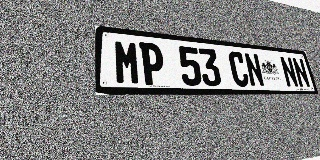3: (198, 48, 222, 86)
5: (178, 46, 203, 86)
C: (227, 51, 250, 87)
M: (114, 39, 141, 85)
N: (243, 52, 265, 87), (279, 56, 299, 88), (291, 57, 311, 88)
P: (139, 42, 166, 85)
